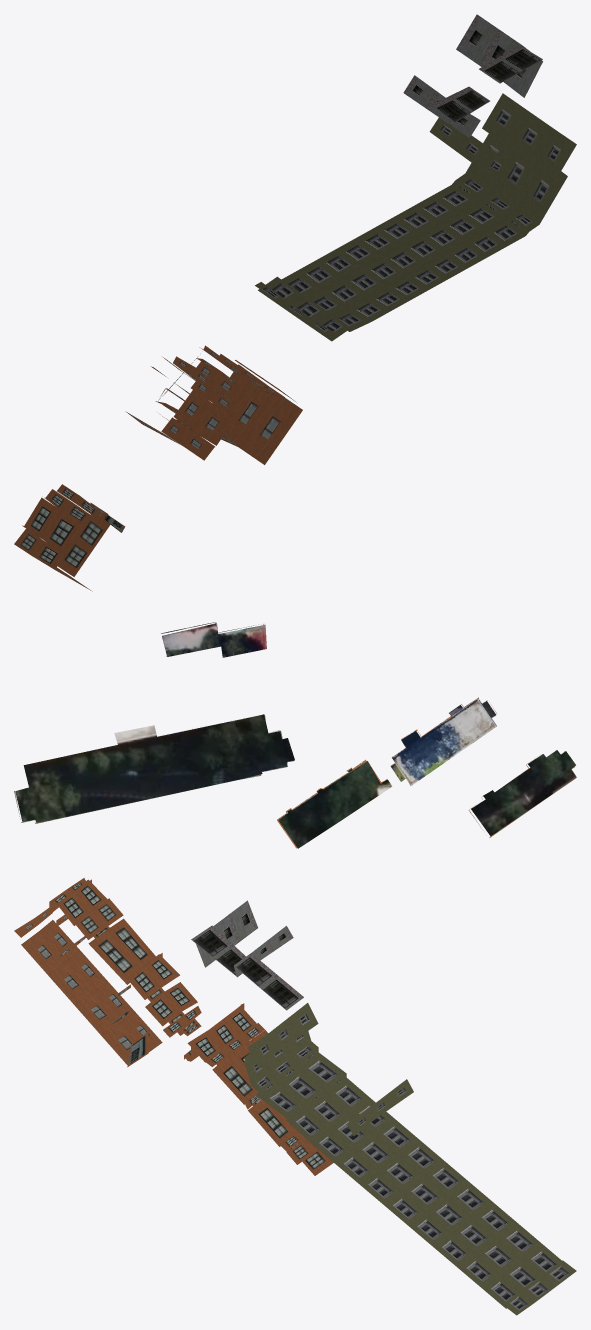
Rendered from tile_LOD4_r12_c9.glb.
3 views of the same model, one above another, from view 1: azimuth 30°, elevation 25°; view 2: azimuth 150°, elevation 25°; view 3: azimuth 270°, elevation 25° (orthographic). The views are drawn at different scales.
Bounding box in the file's own units: 112 × 51.5 × 79.5.
15 materials, 15 textured.
